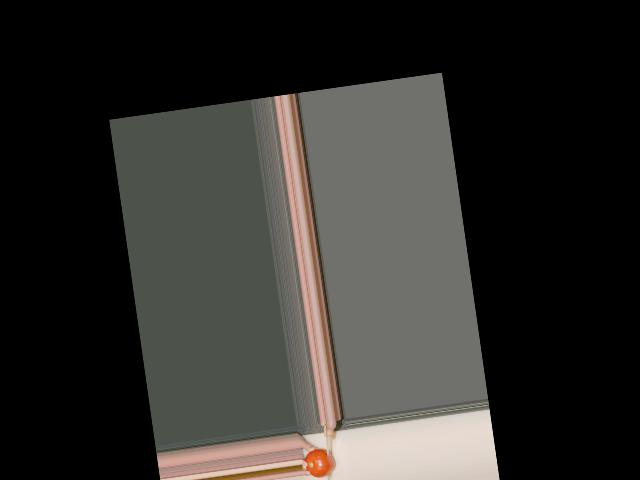tomato: (303, 447, 336, 479)
